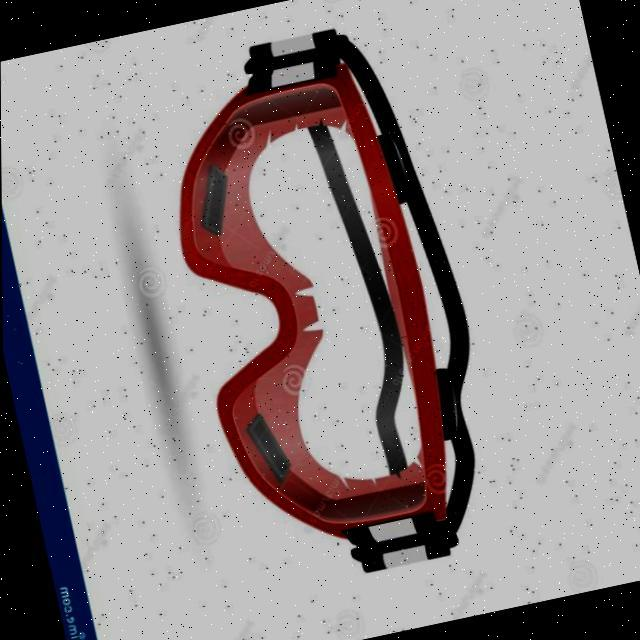goggles_on: (172, 24, 481, 582)
